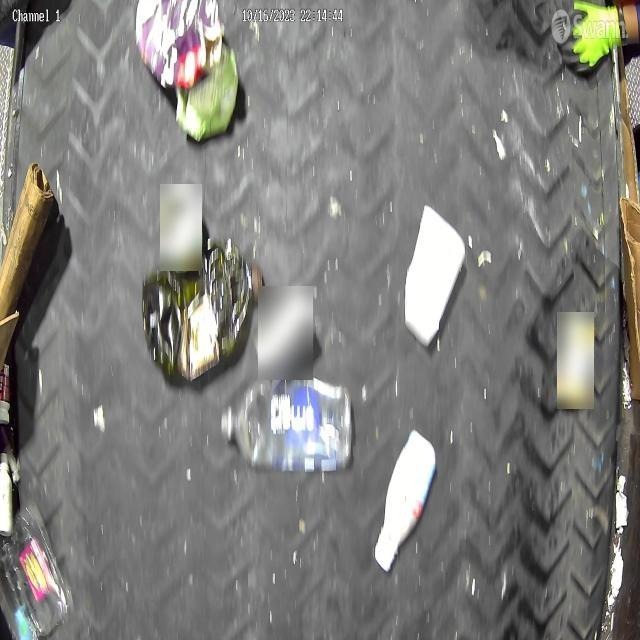plastic_bottle: (222, 377, 354, 476)
